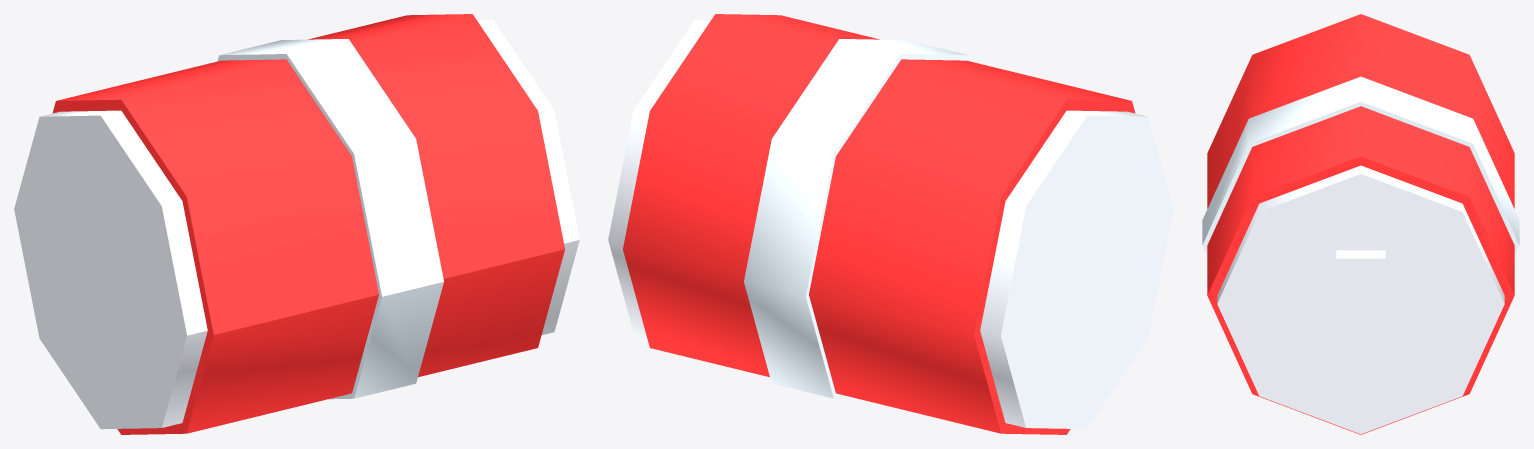
The model's file is trash-can-0.glb.
3 views of the same model, side by side, from view 1: azimuth 30°, elevation 25°; view 2: azimuth 150°, elevation 25°; view 3: azimuth 270°, elevation 25° (orthographic). The views are drawn at different scales.
Parts seen in each view (by area): view 1: trash-can-0; view 2: trash-can-0; view 3: trash-can-0.
Boxes of the visible parts, <box> form: trash-can-0: <box>14,14,579,434</box>; trash-can-0: <box>608,14,1173,434</box>; trash-can-0: <box>1202,14,1519,434</box>.
Bounding box in the file's own units: 0.4 × 0.32 × 0.32.
